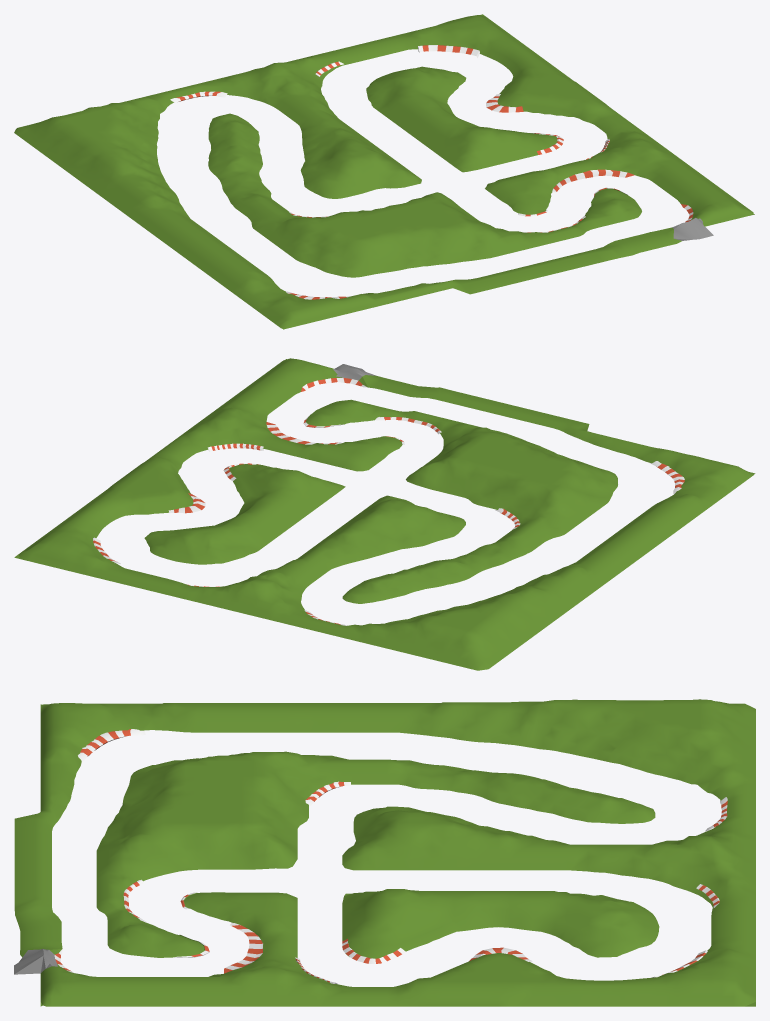
The model's file is track10.glb.
The picture shows the model from 3 angles, top to bottom: view 1: azimuth 30°, elevation 25°; view 2: azimuth 150°, elevation 25°; view 3: azimuth 270°, elevation 25°; orthographic projection. The views are drawn at different scales.
Visible parts, largest first — view 1: tarrain; view 2: tarrain; view 3: tarrain.
Boxes of the visible parts, left/top/right/bottom form: tarrain: left=14, top=14, right=754, bottom=329; tarrain: left=14, top=358, right=755, bottom=670; tarrain: left=14, top=699, right=755, bottom=1006.
Bounding box in the file's own units: 350 × 14.65 × 363.
1 material, 1 textured.
